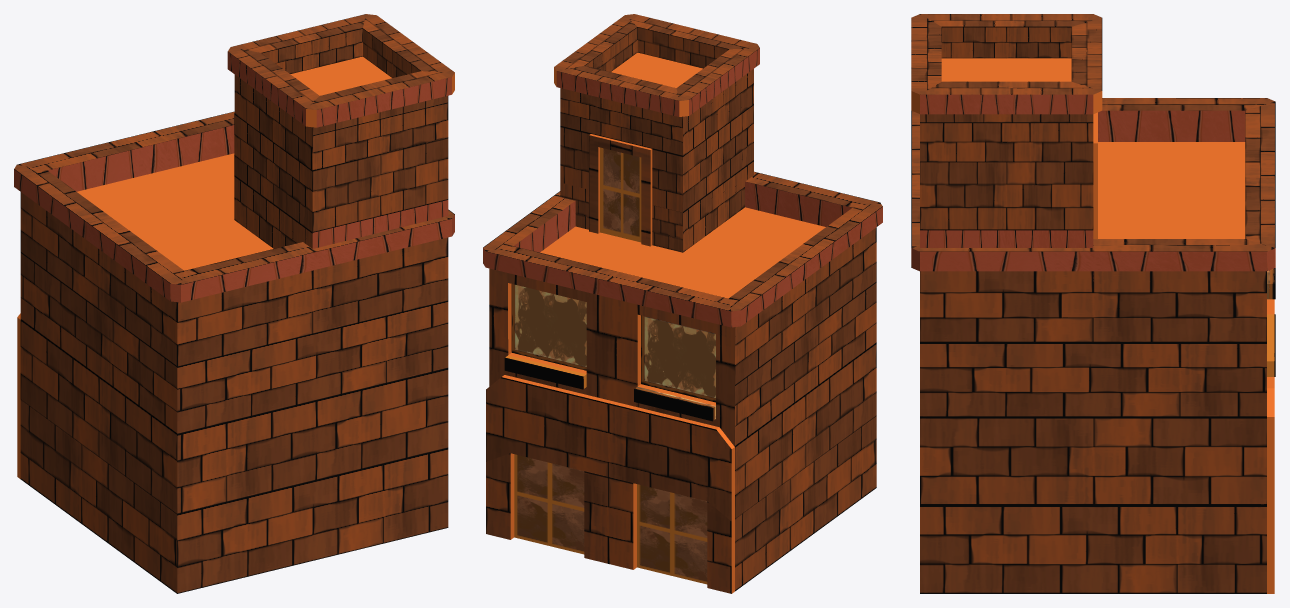
File: Depaul_Building_7.fbx
The picture shows the model from 3 angles, left to right: view 1: azimuth 30°, elevation 25°; view 2: azimuth 150°, elevation 25°; view 3: azimuth 270°, elevation 25°; orthographic projection. The views are drawn at different scales.
Visible parts, largest first — view 1: building2; view 2: building2; view 3: building2.
Boxes of the visible parts, bbox=[...] form: building2: bbox=[14, 14, 454, 593]; building2: bbox=[483, 14, 882, 593]; building2: bbox=[911, 14, 1275, 593].
Size of the model in its own units: 33.07 by 50.39 by 33.07.
